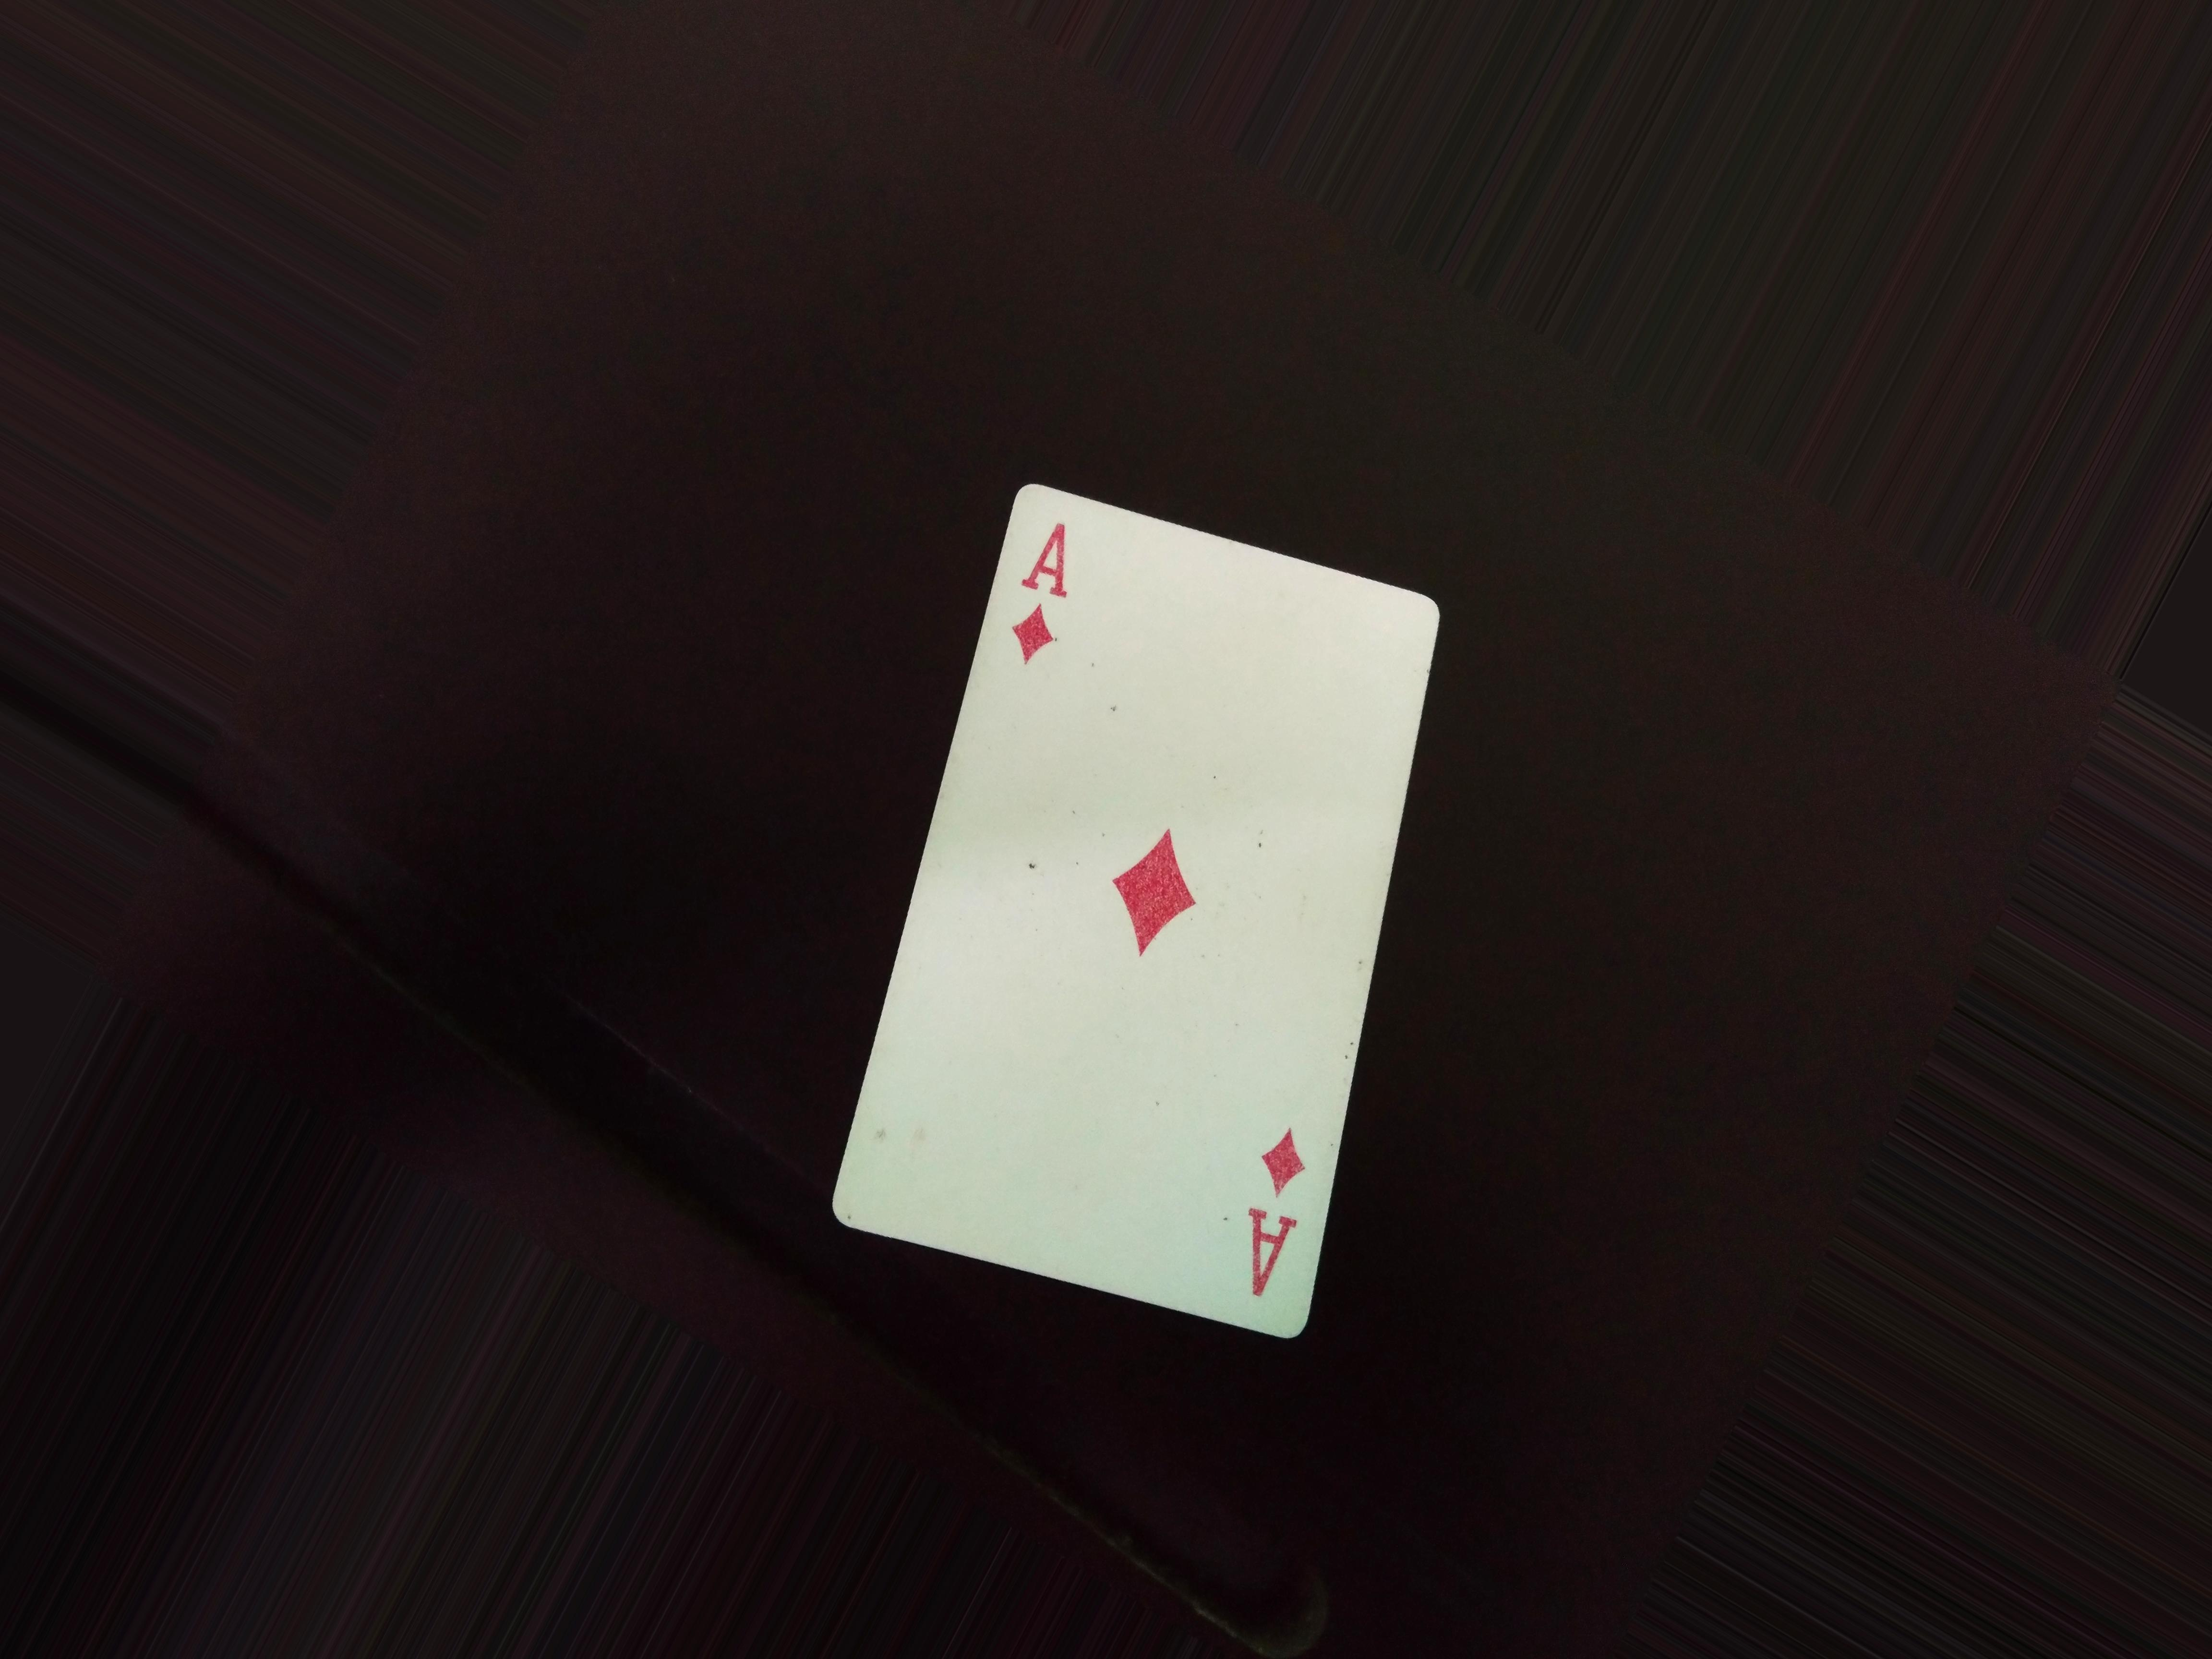AD: (1005, 512, 1089, 669)
